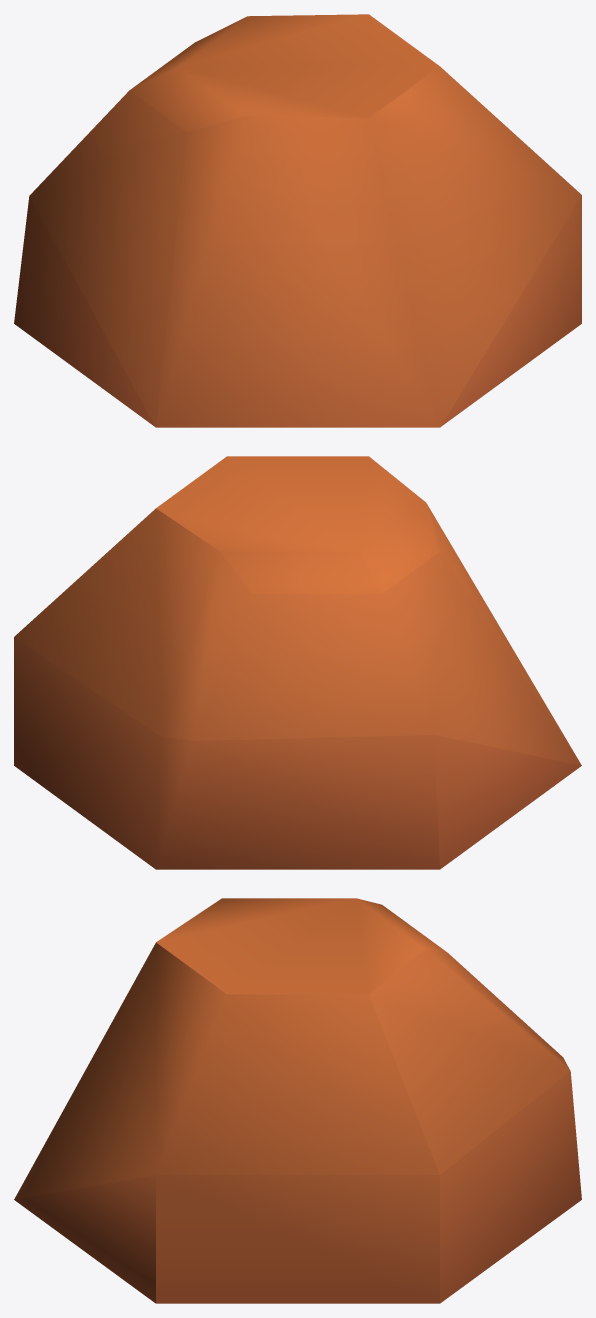
The model's file is rock_b.glb.
3 views of the same model, one above another, from view 1: azimuth 30°, elevation 25°; view 2: azimuth 150°, elevation 25°; view 3: azimuth 270°, elevation 25° (orthographic).
Visible parts, largest first — view 1: rock_B; view 2: rock_B; view 3: rock_B.
Part boxes in pixels (<box>): rock_B: <box>14,14,581,427</box>; rock_B: <box>14,456,581,869</box>; rock_B: <box>14,898,581,1303</box>.
Size of the model in its own units: 2.09 by 1.2 by 2.41.
1 material, 1 textured.
